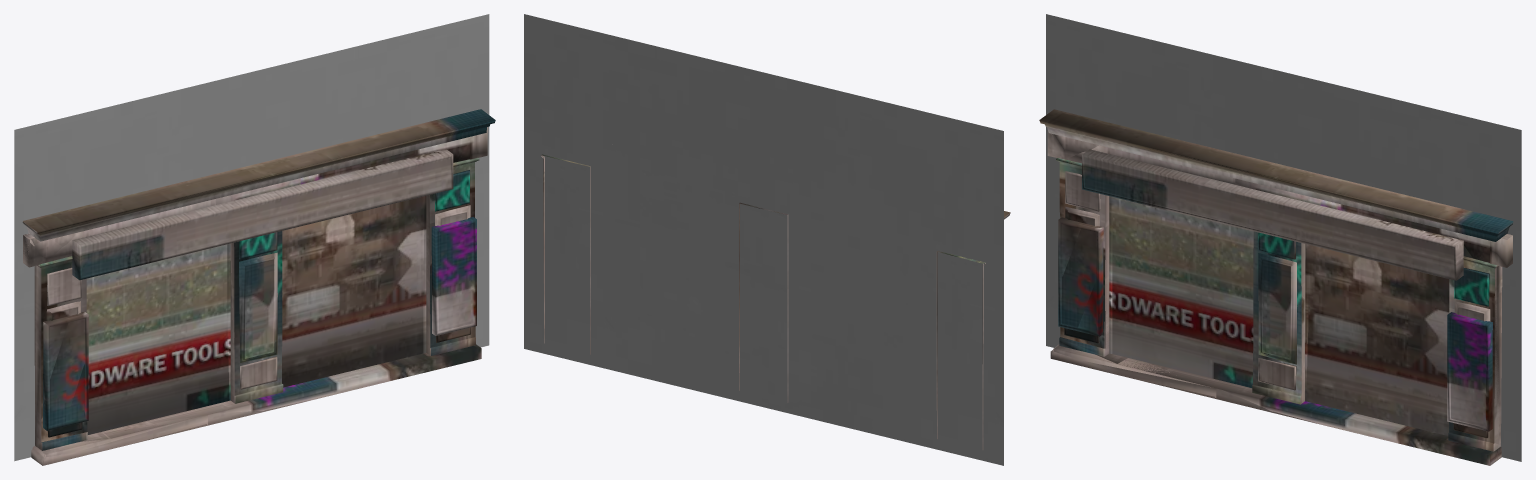
Rendered from sm_slum_storefront04.glb.
3 renders of one model, left to right at view 1: azimuth 30°, elevation 25°; view 2: azimuth 150°, elevation 25°; view 3: azimuth 330°, elevation 25°, orthographic.
Visible parts, largest first — view 1: sm_slum_storefront04_00; view 2: sm_slum_storefront04_00; view 3: sm_slum_storefront04_00.
Boxes of the visible parts, x1,y1,x2,y2 form: sm_slum_storefront04_00: (14, 14, 495, 465); sm_slum_storefront04_00: (524, 14, 1010, 465); sm_slum_storefront04_00: (1039, 14, 1521, 465).
Size of the model in its own units: 6 by 4 by 0.3369.
Materials: 2 (2 with a texture image).
